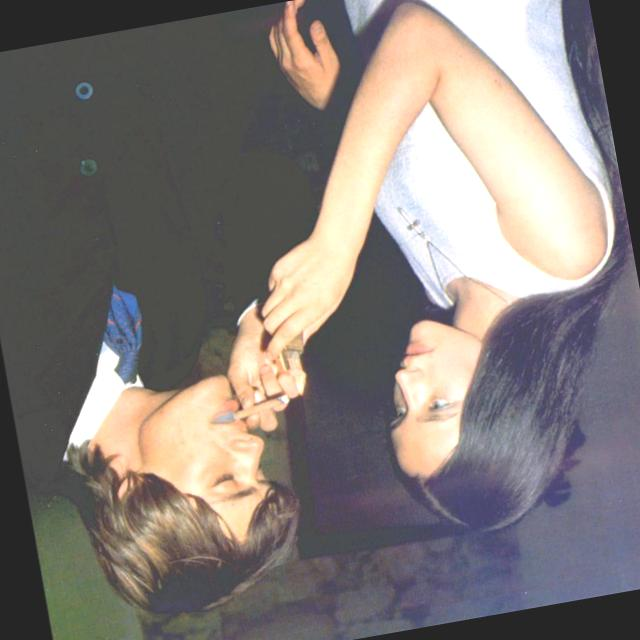cigarette: (209, 378, 310, 432)
